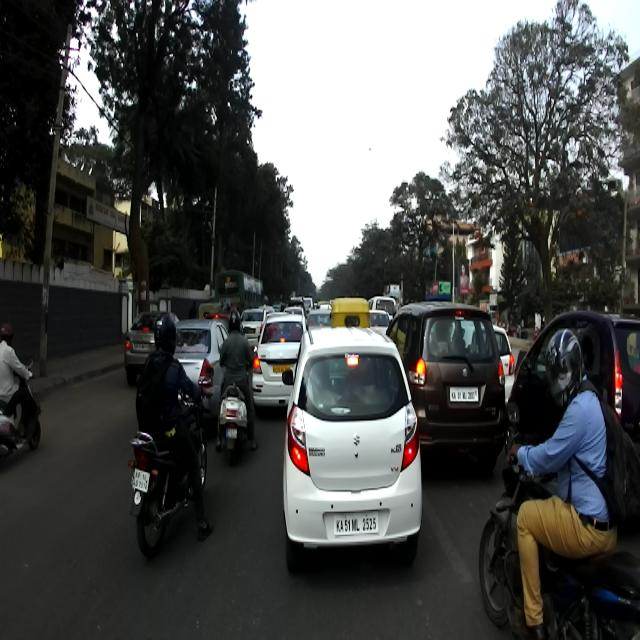car ahead at: (282, 330, 428, 564)
electric pole ahead at: (30, 17, 80, 378)
motorcycle ahead at: (122, 427, 218, 560), (216, 385, 252, 460)
